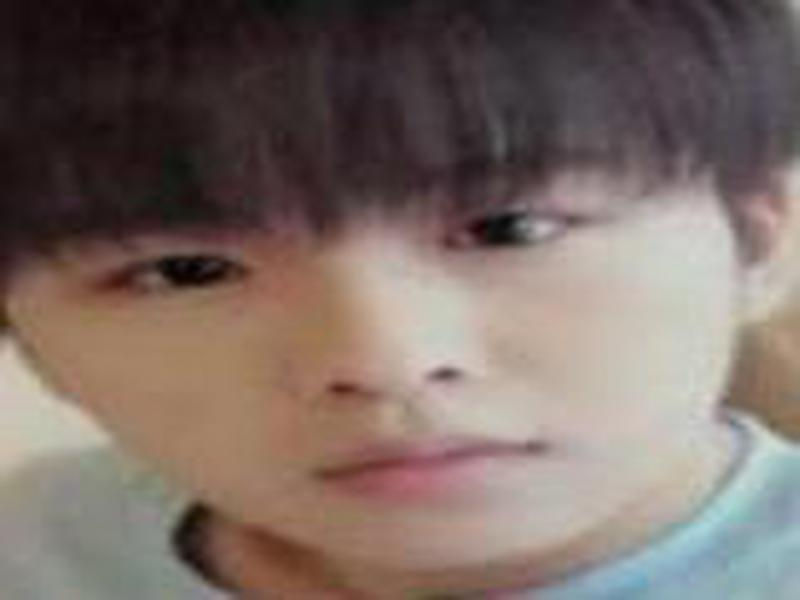without_mask: (8, 159, 731, 565)
